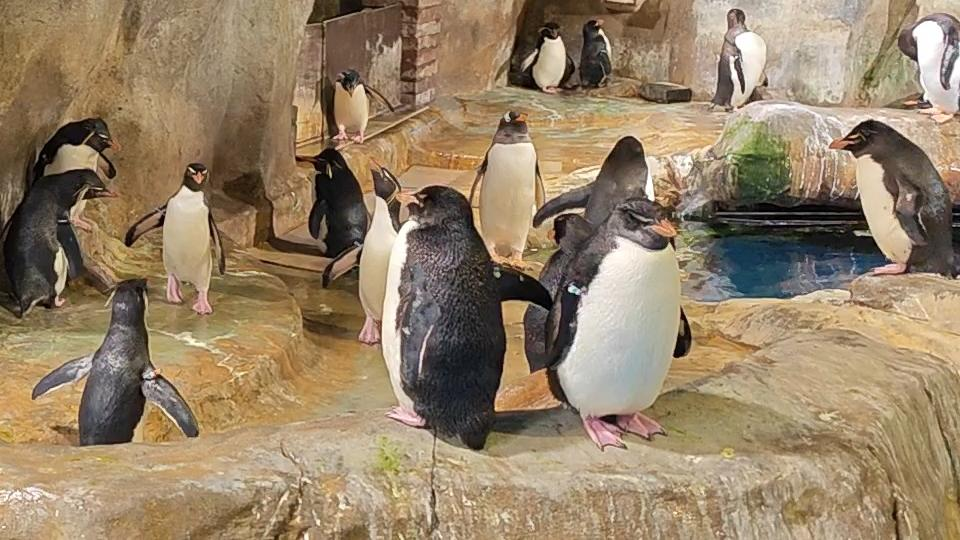Southern Rockhopper Penguin: (370, 177, 554, 456), (536, 194, 703, 459), (21, 274, 208, 461), (823, 110, 959, 291), (313, 150, 422, 349), (114, 156, 234, 321), (0, 164, 119, 317), (294, 141, 375, 264), (27, 110, 126, 201), (317, 66, 397, 145), (517, 19, 579, 95), (575, 13, 620, 97)
